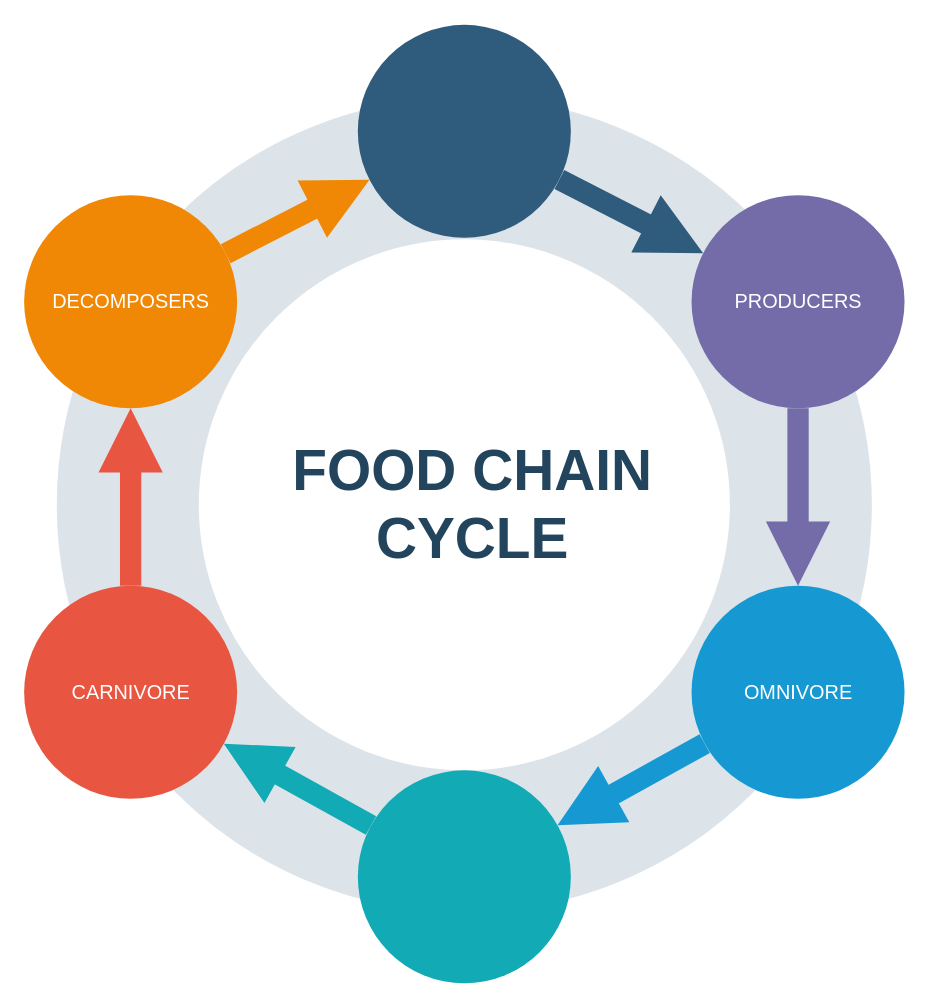
Image size: 929x1007. Some labels were removed from this diagram. Here are the shapes that lost their labels. From the top down, the centre of each, then its label:
At pixel 463 130: "CLIMATE".
At pixel 463 876: "HERBIVORE".
